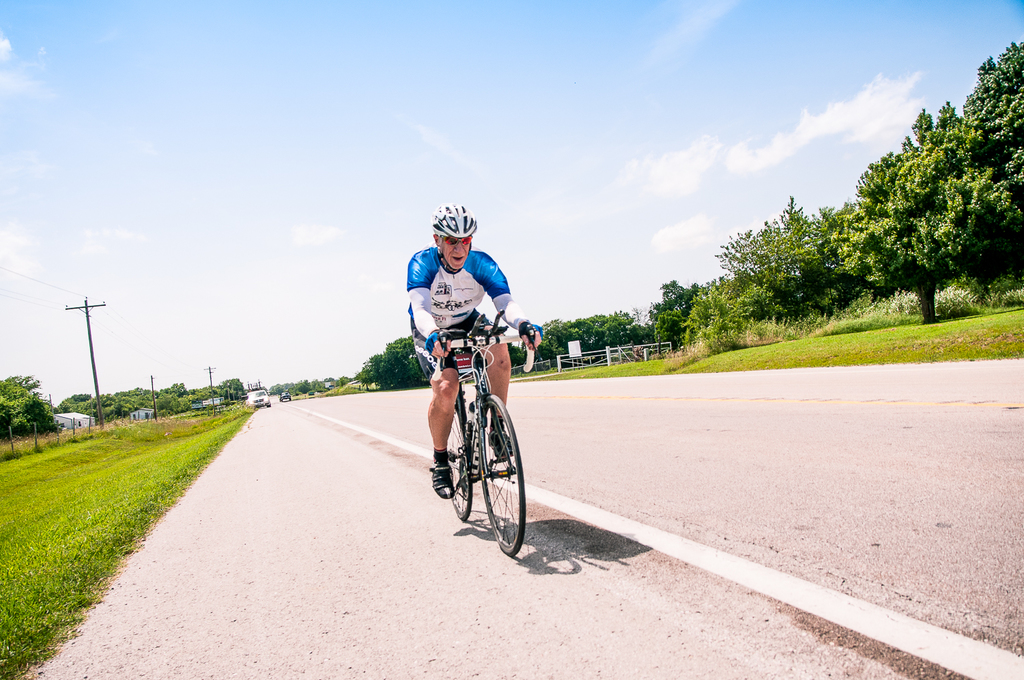Bike: (395, 327, 559, 566)
